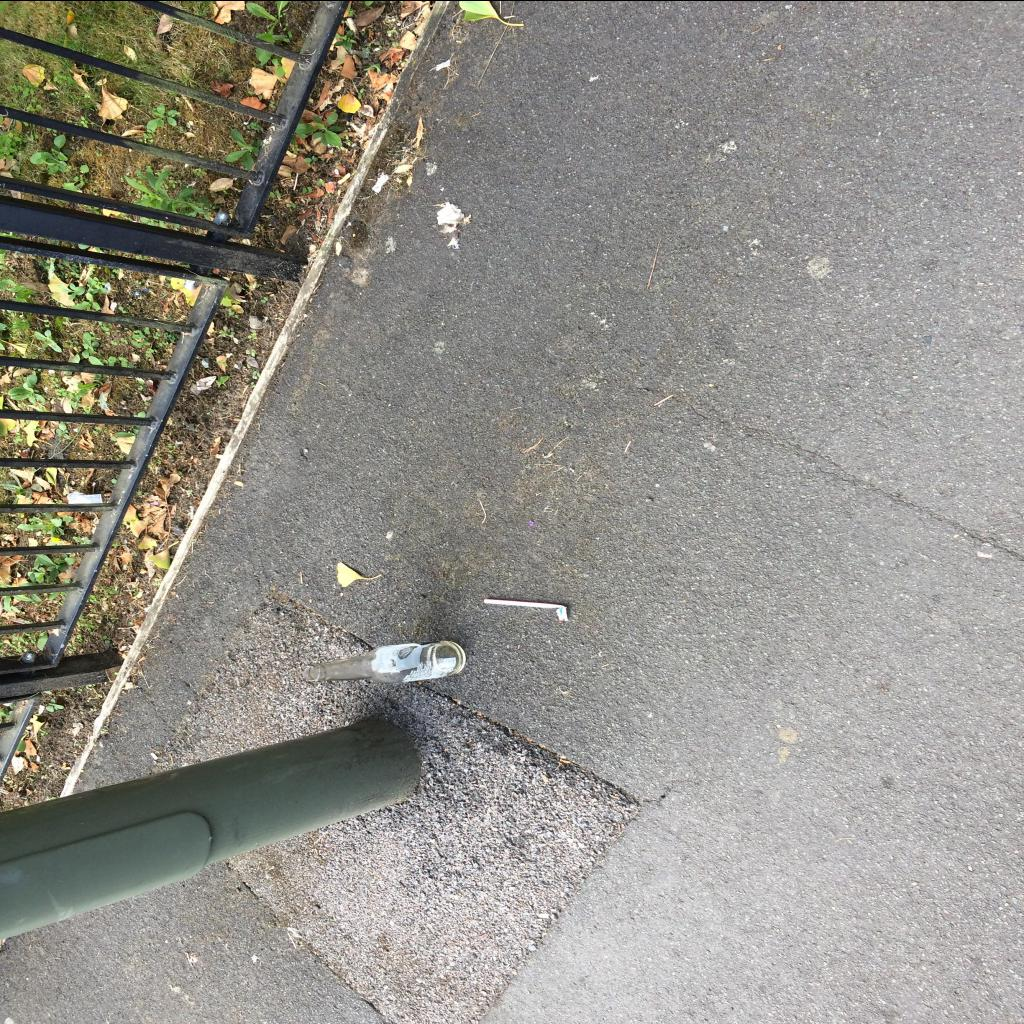Glass bottle: (304, 640, 466, 682)
Plastic straw: (484, 598, 568, 620)
Unlabeled litter: (66, 490, 102, 502)
